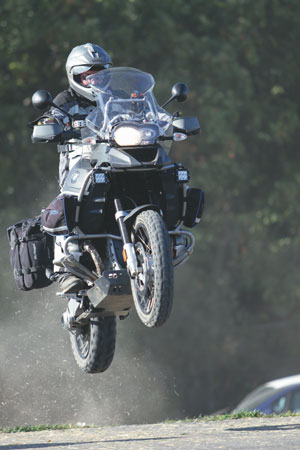helmet: (27, 33, 158, 252)
